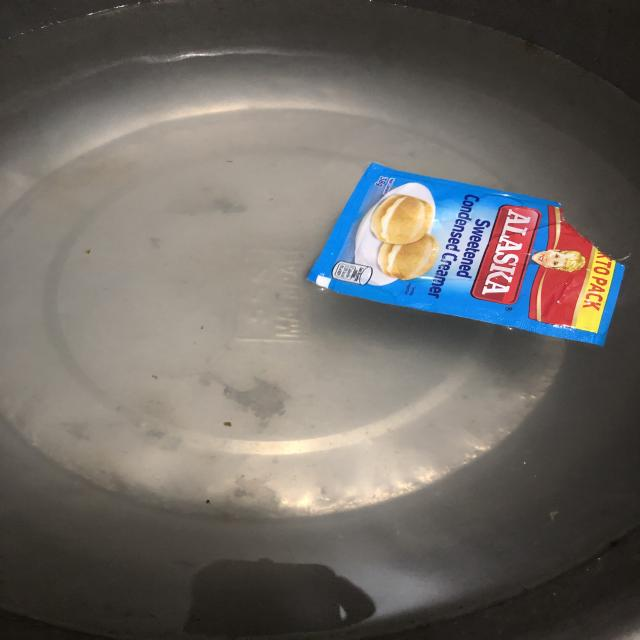Plastic Wrapper: (292, 160, 618, 348)
